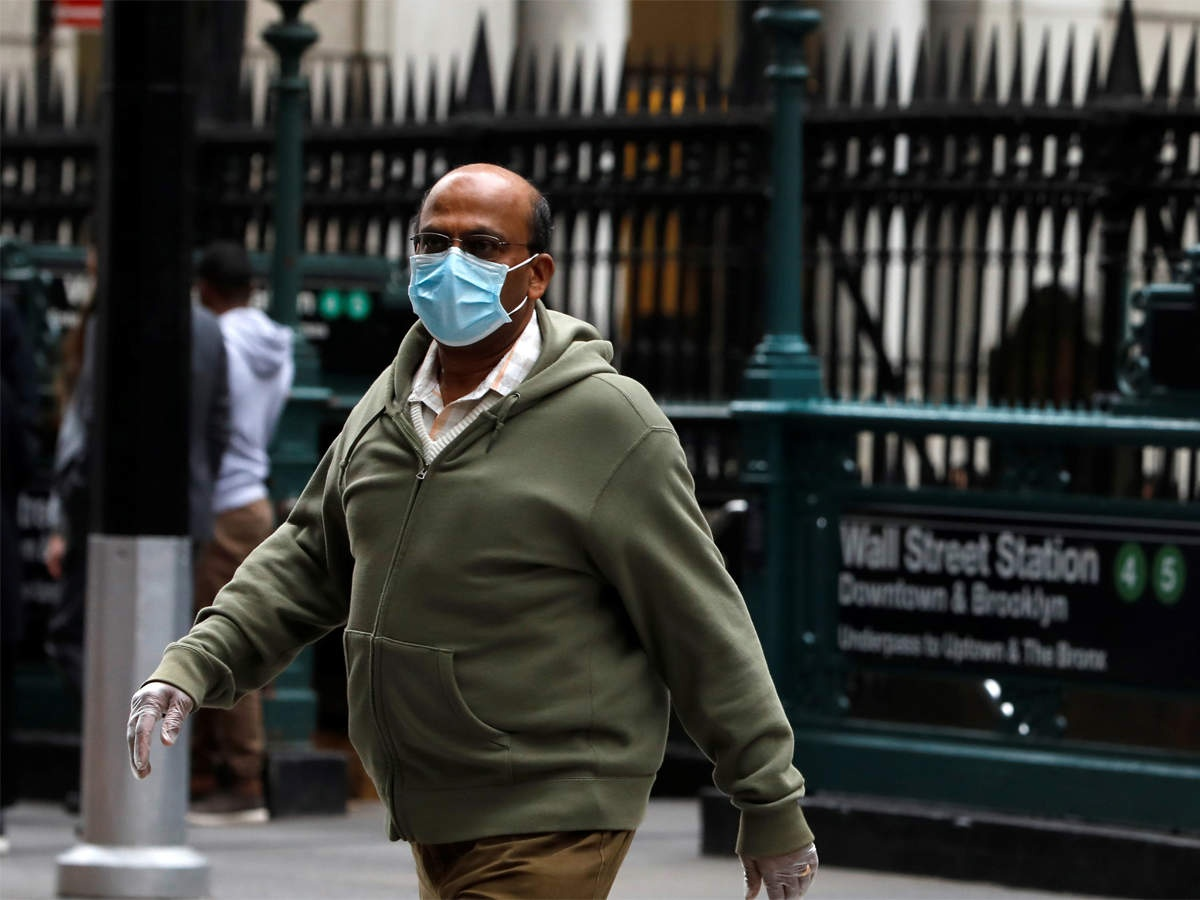with_mask: (409, 172, 560, 347)
